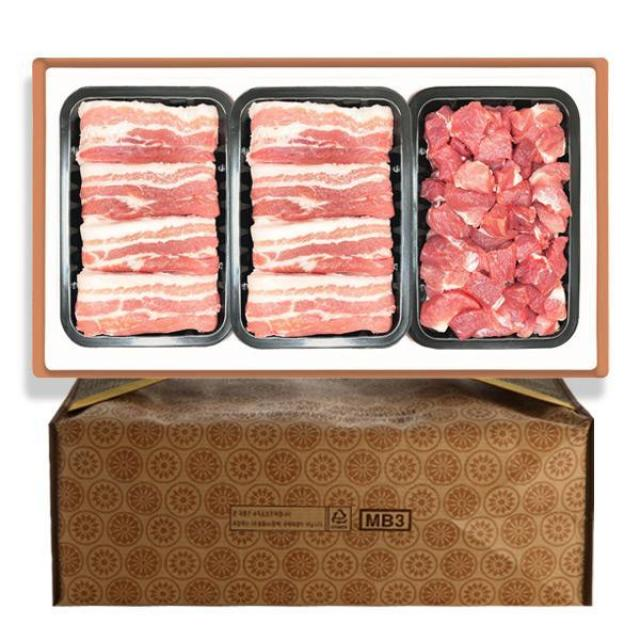pork: (1, 53, 612, 374)
